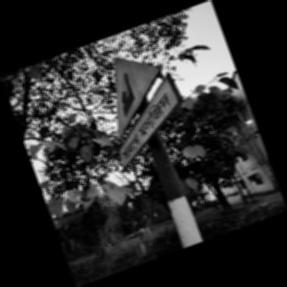Mosque in front: (113, 57, 182, 163)
